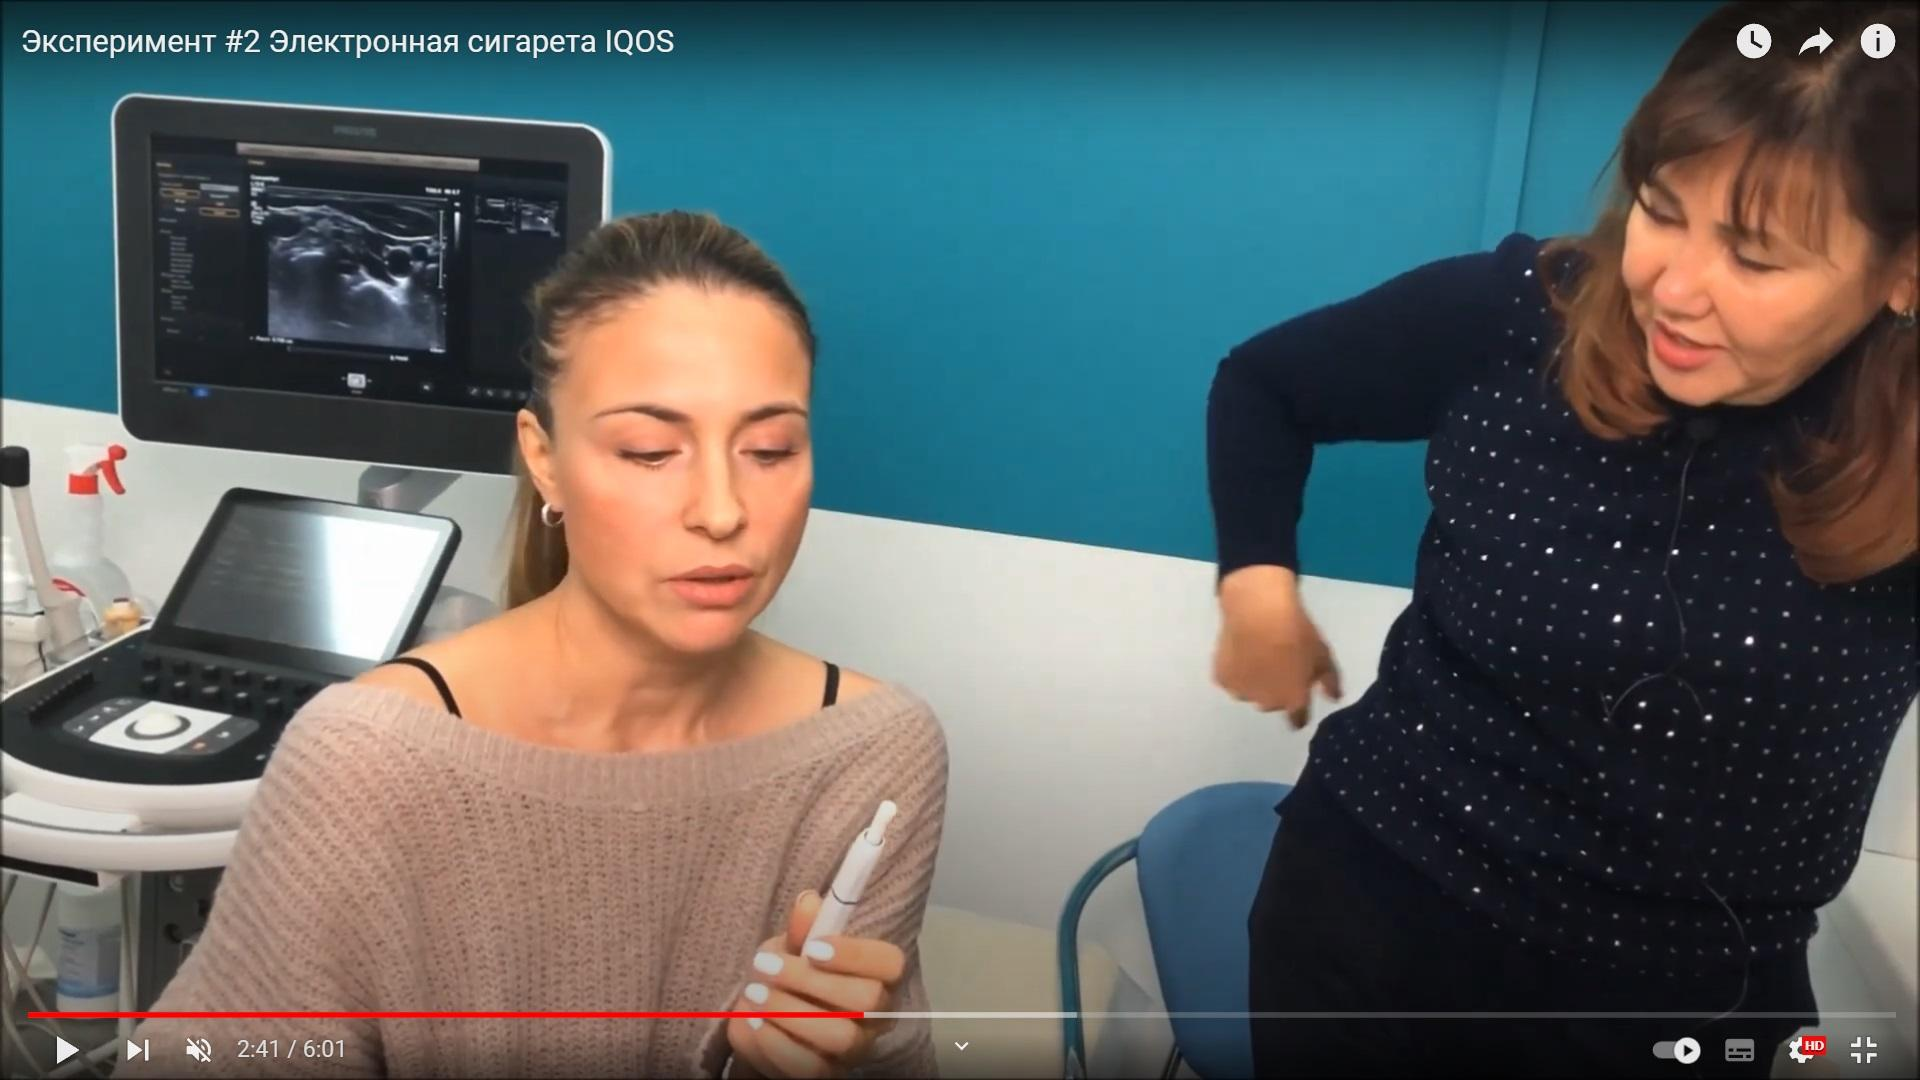iqos: (799, 799, 897, 956)
